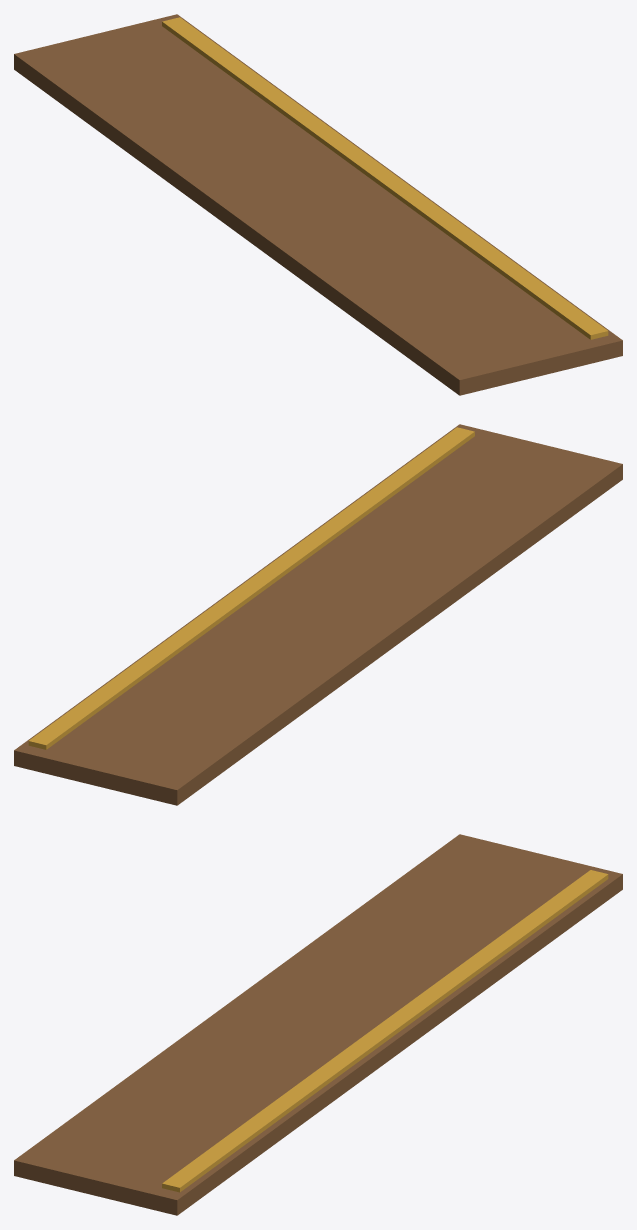
The model's file is sill-out.glb.
3 views of the same model, one above another, from view 1: azimuth 30°, elevation 25°; view 2: azimuth 150°, elevation 25°; view 3: azimuth 330°, elevation 25° (orthographic).
Visible parts, largest first — view 1: #8a6440, #d8a840_noshadow; view 2: #8a6440, #d8a840_noshadow; view 3: #8a6440, #d8a840_noshadow.
Boxes of the visible parts, <box> form: #8a6440: <box>14,14,622,395</box>; #d8a840_noshadow: <box>162,17,608,339</box>; #8a6440: <box>14,424,622,805</box>; #d8a840_noshadow: <box>28,427,474,749</box>; #8a6440: <box>14,834,622,1215</box>; #d8a840_noshadow: <box>162,870,608,1192</box>.
Bounding box in the file's own units: 0.55 × 0.065 × 2.6.
